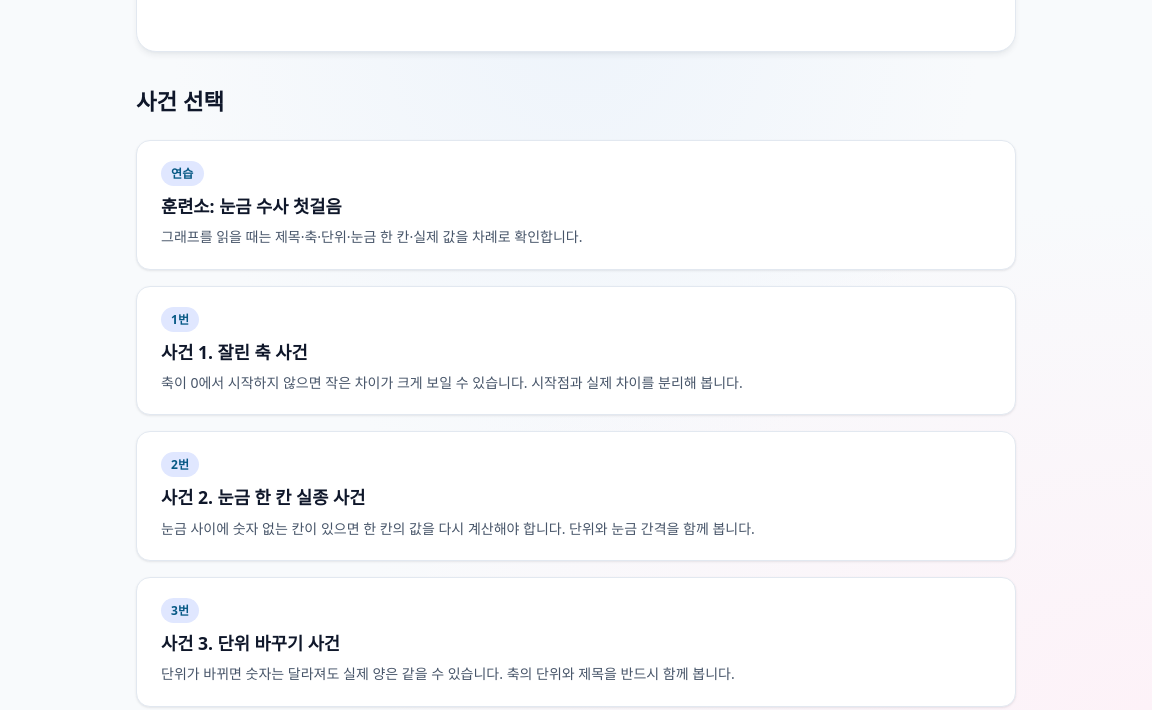
사양서 11.1절 시작 화면 › 사건 1을 누르면 미션 화면으로 진입한다
(page scrolled)
Click the button "사건 1. 잘린 축 사건". click: (180, 319)
box: [136, 286, 1016, 415]
(page scrolled)
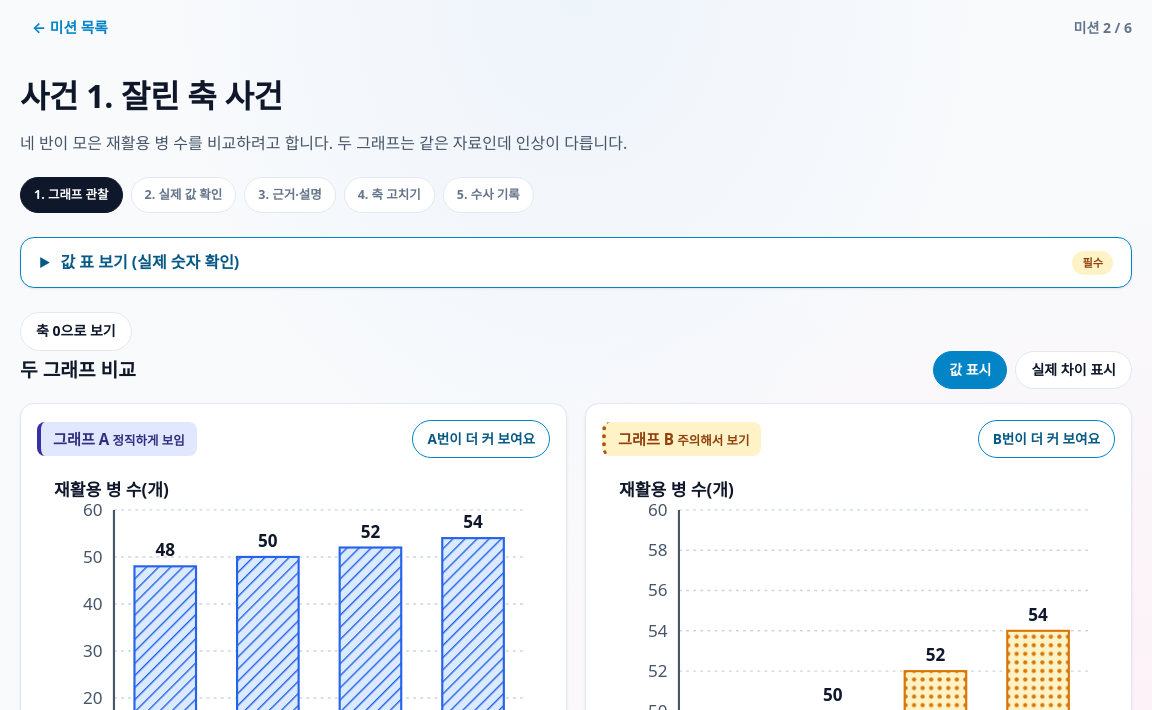
Expected: the heading "사건 1. 잘린 축 사건" is shown, [20, 74, 283, 117]
Now the text "네 반이 모은 재활용 병 수를 비교하려고 합니다. 두 그래프는 같은 자료인데 인상이 다릅니다." is shown, box [20, 132, 627, 154]
